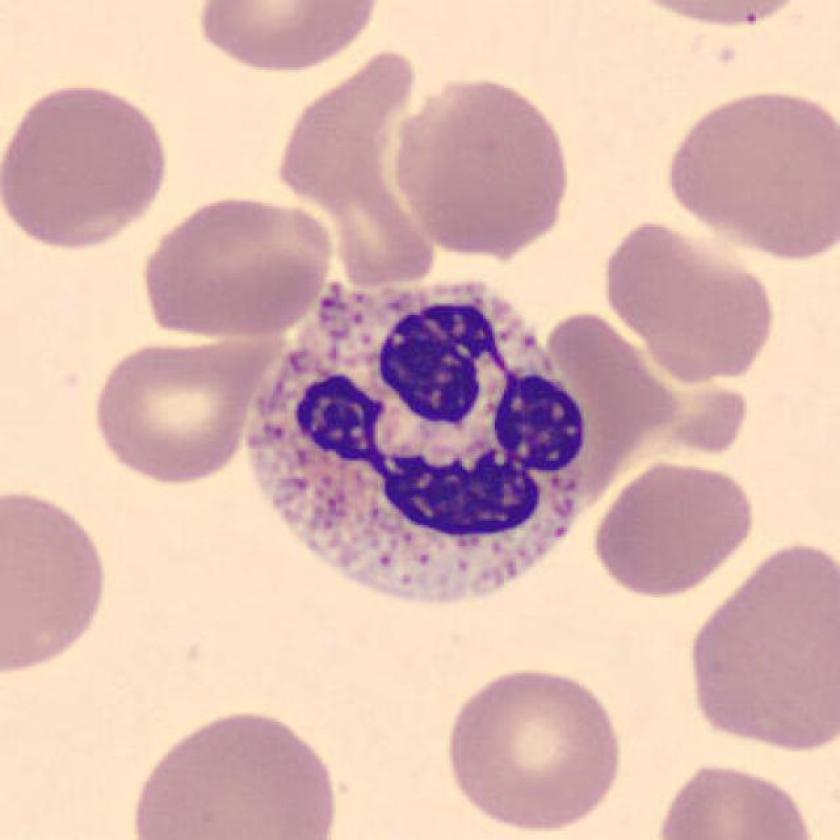neutrophil: (233, 275, 584, 601)
